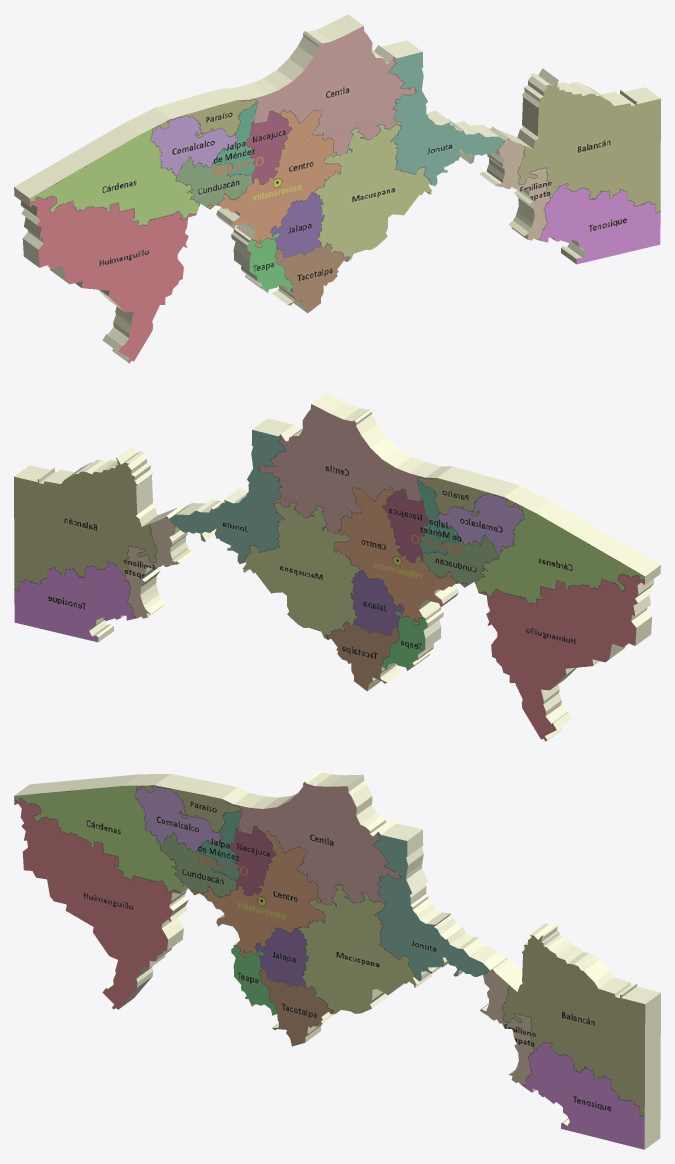
Rendered from tabasco.glb.
3 views of the same model, one above another, from view 1: azimuth 30°, elevation 25°; view 2: azimuth 150°, elevation 25°; view 3: azimuth 330°, elevation 25° (orthographic).
Visible parts, largest first — view 1: Plano; view 2: Plano; view 3: Plano.
Part boxes in pixels (bbox=[...]): Plano: bbox=[14, 14, 660, 363]; Plano: bbox=[14, 392, 660, 741]; Plano: bbox=[14, 770, 660, 1149].
Size of the model in its own units: 1.13 by 0.497 by 0.0488.
Materials: 1 (1 with a texture image).
